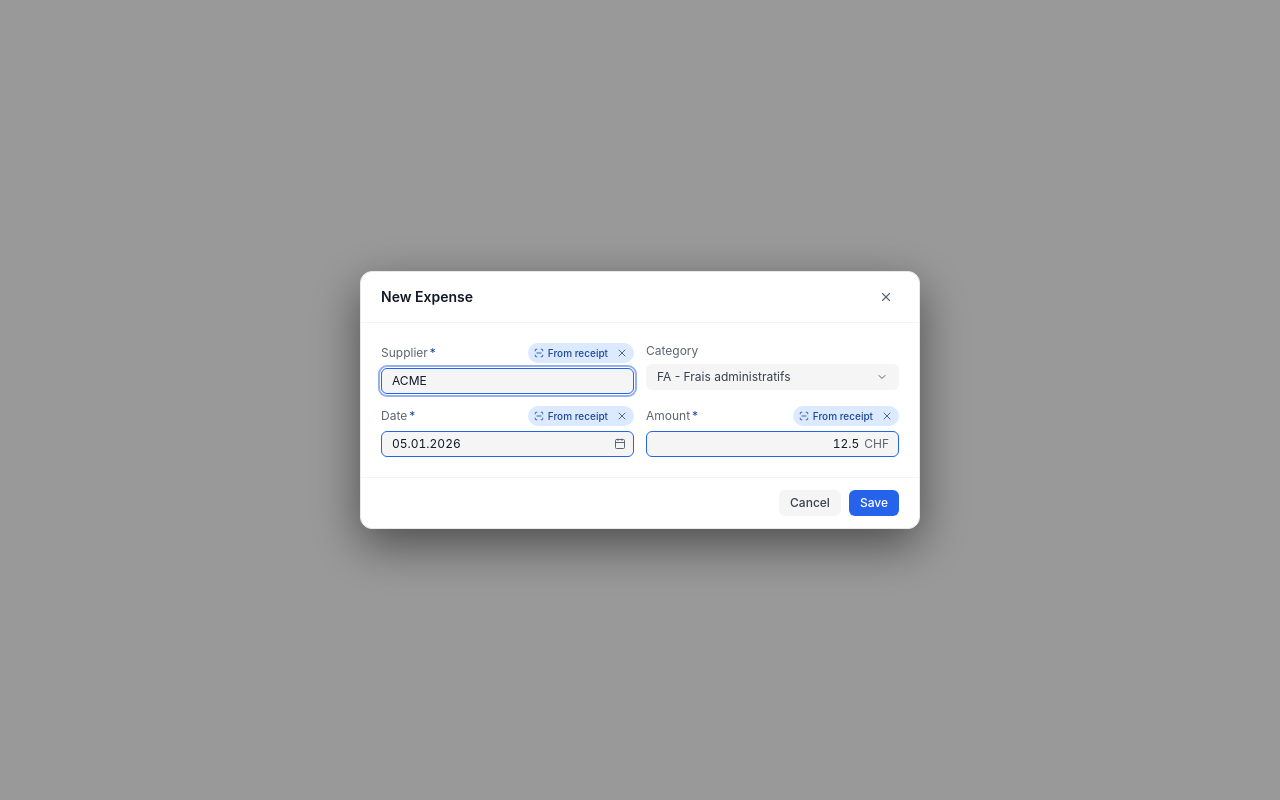
Scenario: detected-from-receipt indicators › clears the field value via the indicator's clear button
What coordinates should you click on to do the following:
click the button named "clear detected" in the row of "Supplier"
I would click on:
 (622, 353)
Its box is [612, 343, 632, 363].
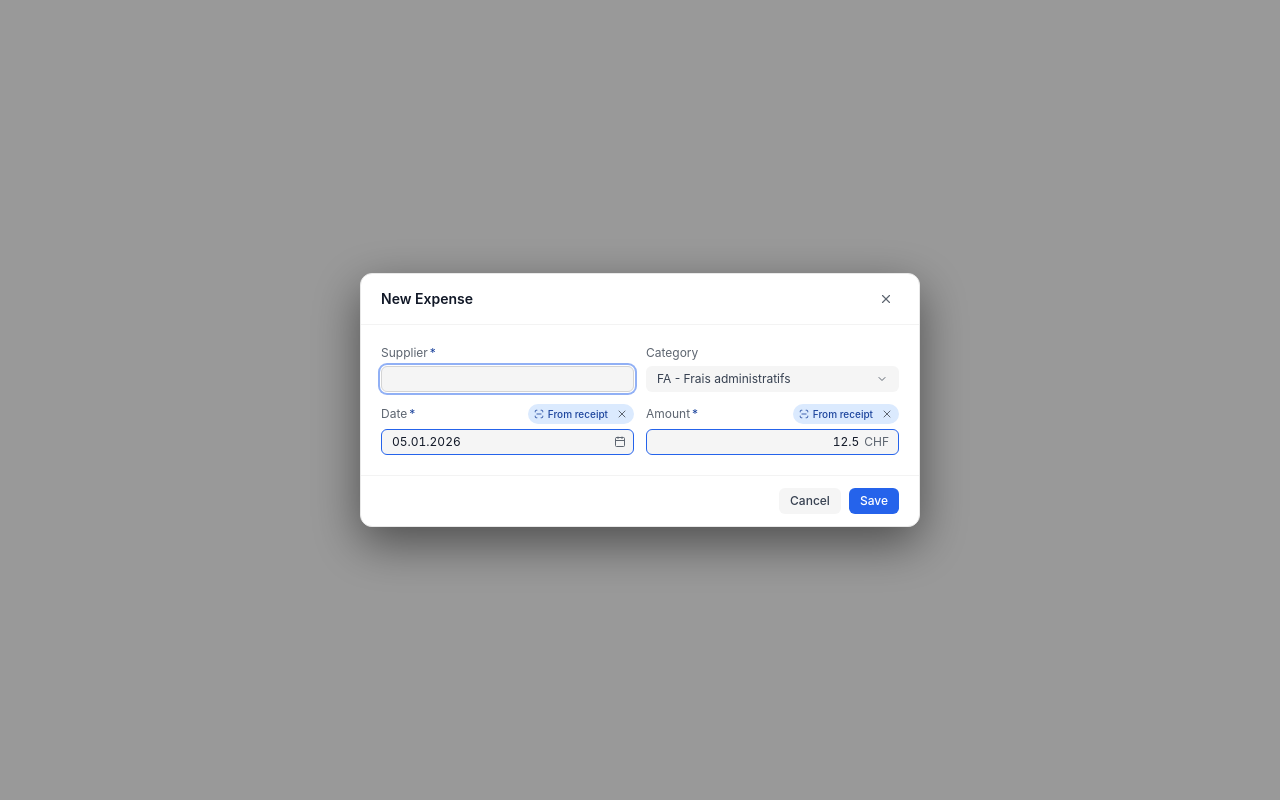
Expected: the field showing "ACME" is not shown
Result: the text "From receipt" is shown 2 times at [528, 404, 634, 424]; [793, 404, 899, 424]
